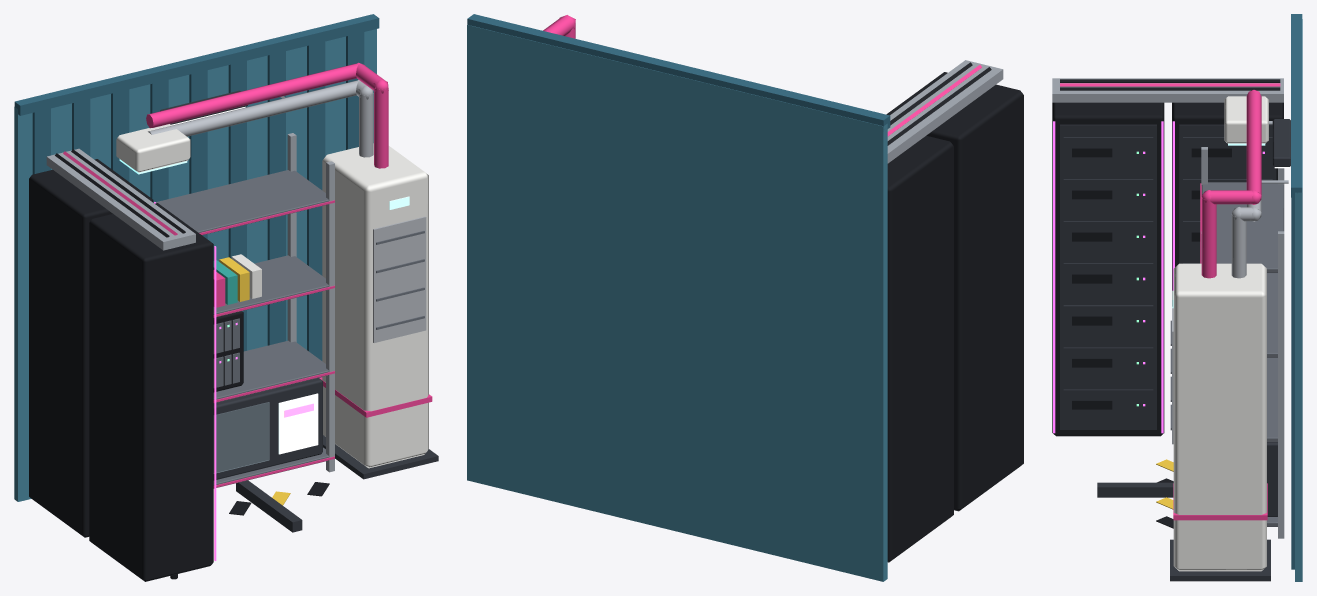
Rendered from station_transport_3.glb.
3 views of the same model, side by side, from view 1: azimuth 30°, elevation 25°; view 2: azimuth 150°, elevation 25°; view 3: azimuth 270°, elevation 25° (orthographic). The views are drawn at different scales.
Visible parts, largest first — view 1: station_transport_3; view 2: station_transport_3; view 3: station_transport_3.
Part boxes in pixels (x1=…): station_transport_3: x1=14, y1=14, x2=438, y2=581; station_transport_3: x1=467, y1=14, x2=1023, y2=581; station_transport_3: x1=1052, y1=14, x2=1302, y2=581.
Size of the model in its own units: 2.2 by 2.33 by 1.34.
